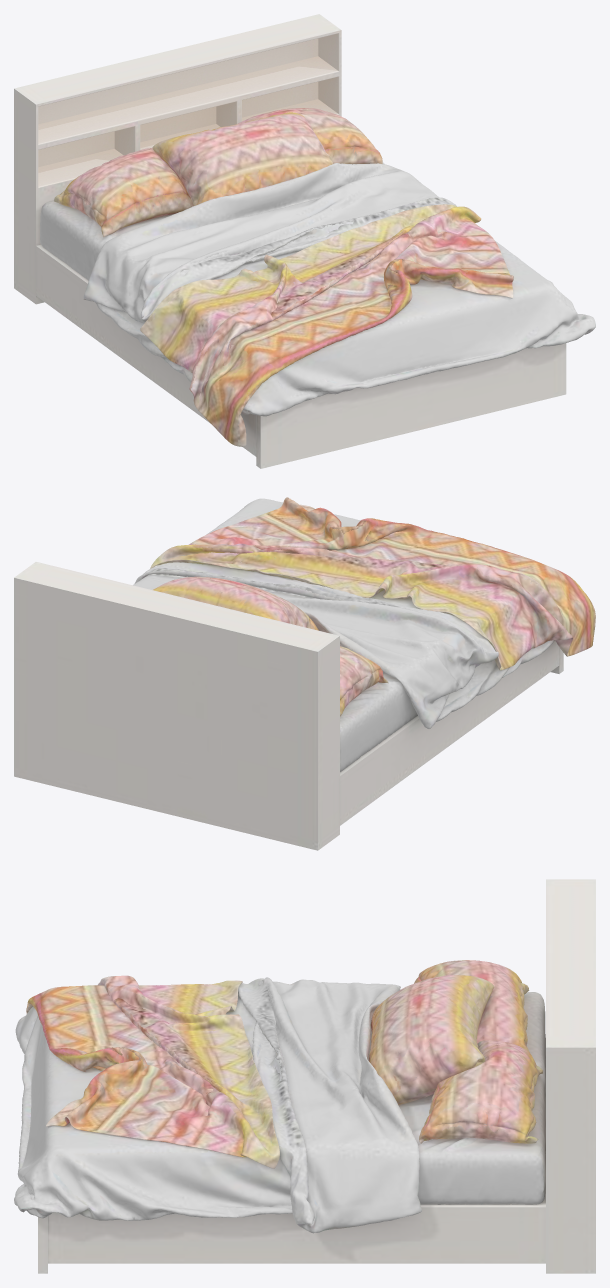
File: bed2_doaa.glb
The picture shows the model from 3 angles, top to bottom: view 1: azimuth 30°, elevation 25°; view 2: azimuth 150°, elevation 25°; view 3: azimuth 270°, elevation 25°; orthographic projection. The views are drawn at different scales.
Visible parts, largest first — view 1: Object_7, Object_4, Object_3, Object_2, Object_5, Object_6, Object_8; view 2: Object_3, Object_4, Object_7, Object_5, Object_6, Object_8; view 3: Object_7, Object_3, Object_4, Object_8, Object_5, Object_6.
Part boxes in pixels (x1,y1,x2,y2): Object_7: (84, 163, 595, 416); Object_4: (36, 30, 512, 446); Object_3: (14, 14, 566, 468); Object_2: (38, 32, 339, 187); Object_5: (140, 207, 513, 446); Object_6: (88, 204, 513, 446); Object_8: (40, 162, 595, 425); Object_3: (14, 562, 563, 850); Object_4: (150, 505, 595, 716); Object_7: (133, 498, 554, 728); Object_5: (156, 499, 595, 670); Object_6: (145, 497, 595, 714); Object_8: (133, 501, 582, 771); Object_7: (14, 977, 421, 1233); Object_3: (38, 879, 595, 1273); Object_4: (31, 960, 543, 1168); Object_8: (15, 976, 545, 1232); Object_5: (26, 976, 270, 1159); Object_6: (16, 975, 359, 1168).
Bounding box in the file's own units: 1.99 × 1 × 2.33.
Materials: 2 (2 with a texture image).
